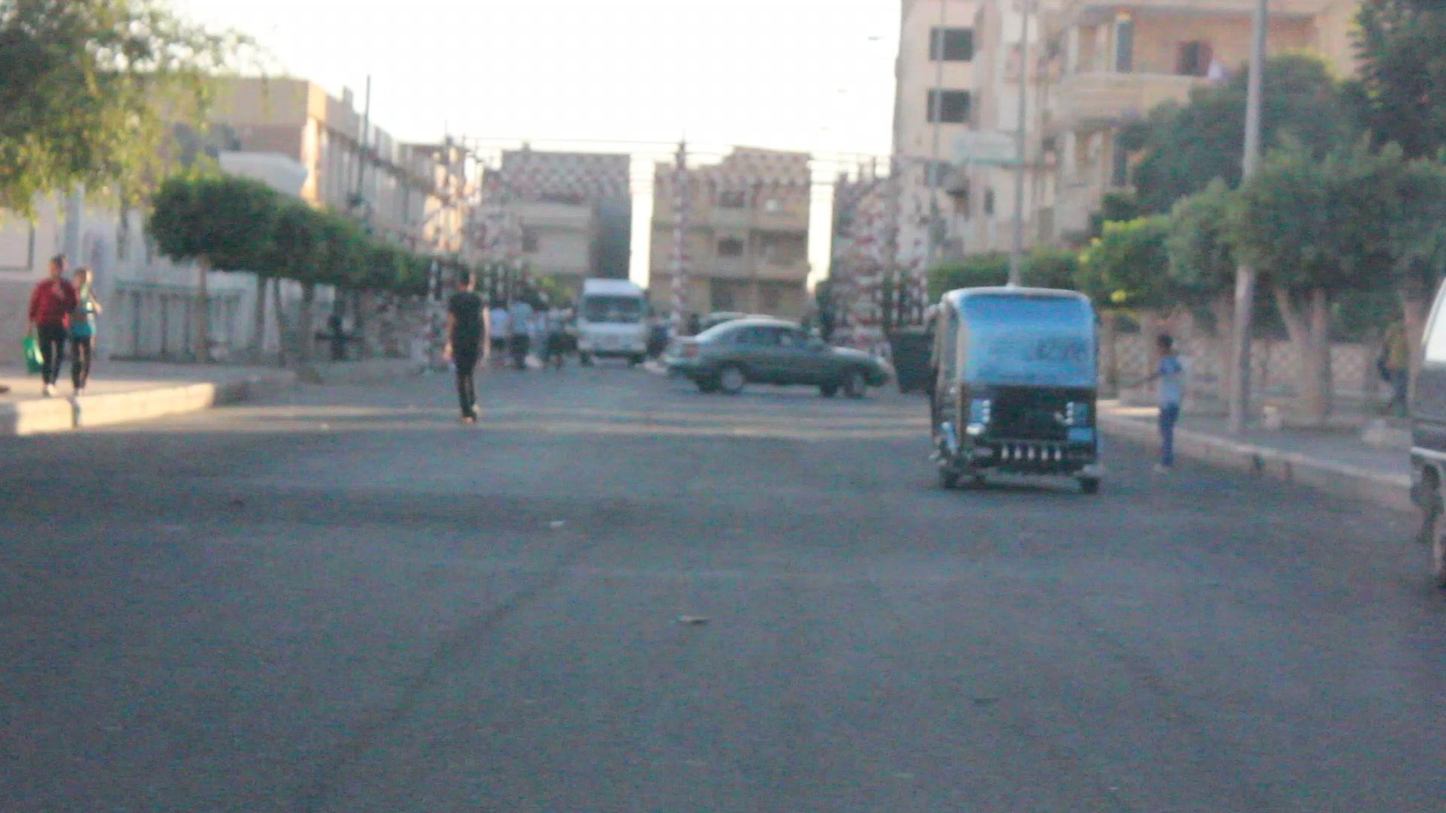Bump: (0, 459, 1422, 557)
